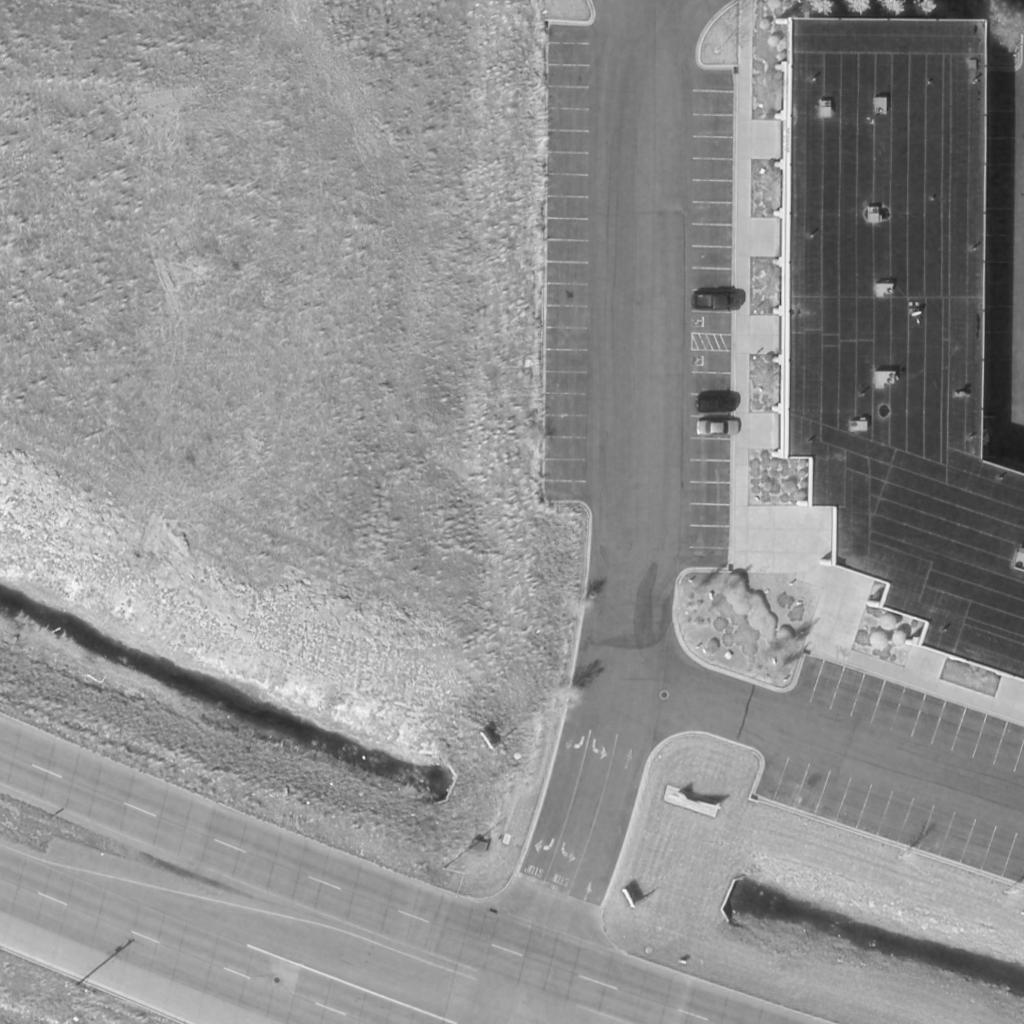vehicle: (692, 291, 744, 311), (693, 419, 743, 437), (697, 394, 735, 414)
